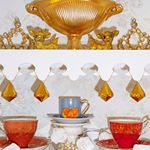cups: (105, 114, 150, 149), (1, 117, 41, 147), (57, 93, 90, 120)
